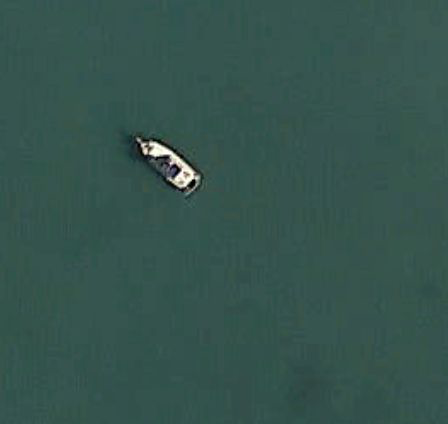boat: (130, 134, 203, 198)
